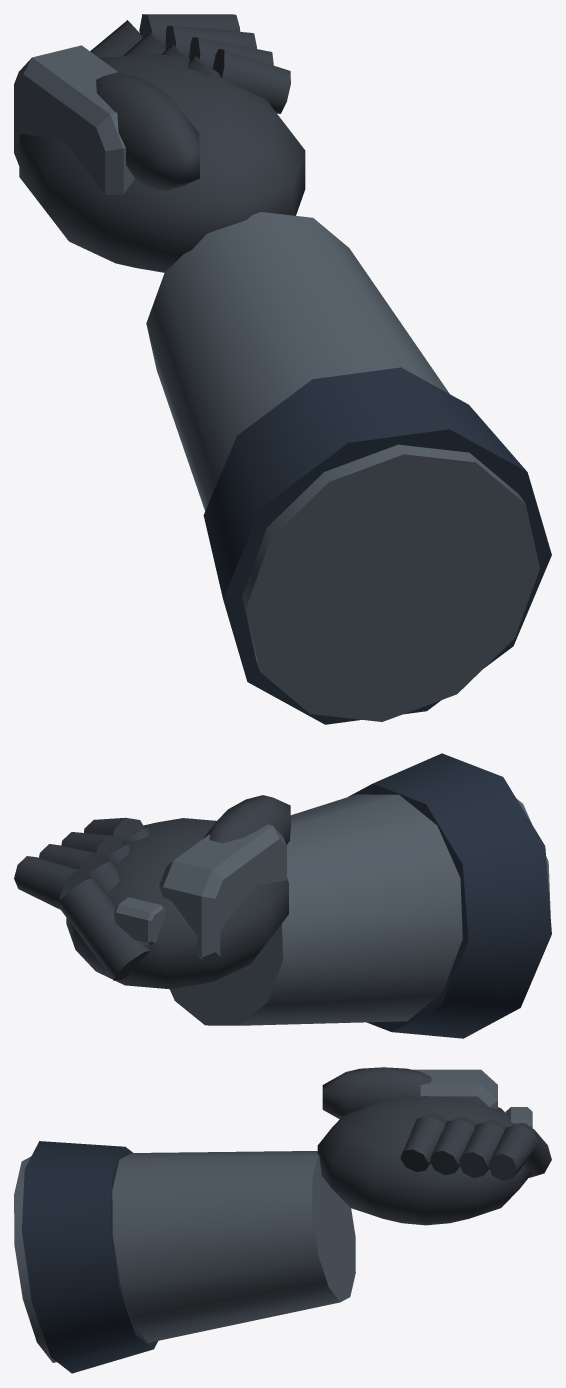
File: aster_carbine_support.glb
3 views of the same model, one above another, from view 1: azimuth 30°, elevation 25°; view 2: azimuth 150°, elevation 25°; view 3: azimuth 270°, elevation 25° (orthographic). The views are drawn at different scales.
Parts seen in each view (by area): view 1: aster_carbine_support; view 2: aster_carbine_support; view 3: aster_carbine_support.
Boxes of the visible parts, <box> form: aster_carbine_support: <box>14,14,551,724</box>; aster_carbine_support: <box>14,753,551,1038</box>; aster_carbine_support: <box>14,1067,551,1373</box>.
Size of the model in its own units: 0.2019 by 0.2524 by 0.4212.
